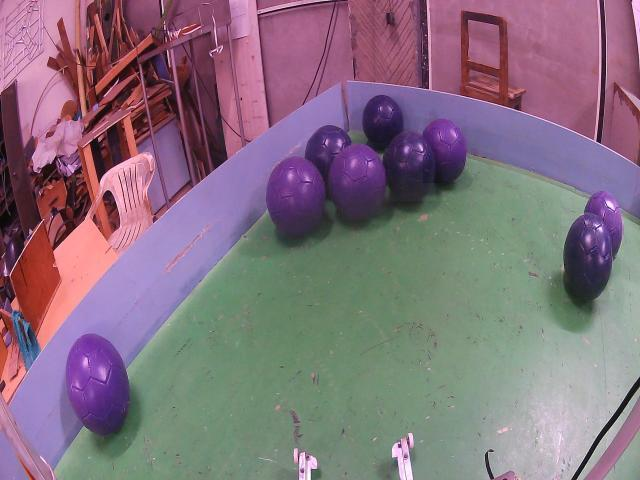jambhalya: (66, 334, 130, 435), (266, 156, 325, 236), (328, 144, 387, 220), (423, 119, 467, 183), (585, 191, 623, 257)
kaalyya: (563, 214, 614, 300), (384, 131, 436, 201), (305, 125, 352, 193), (363, 95, 404, 148)
